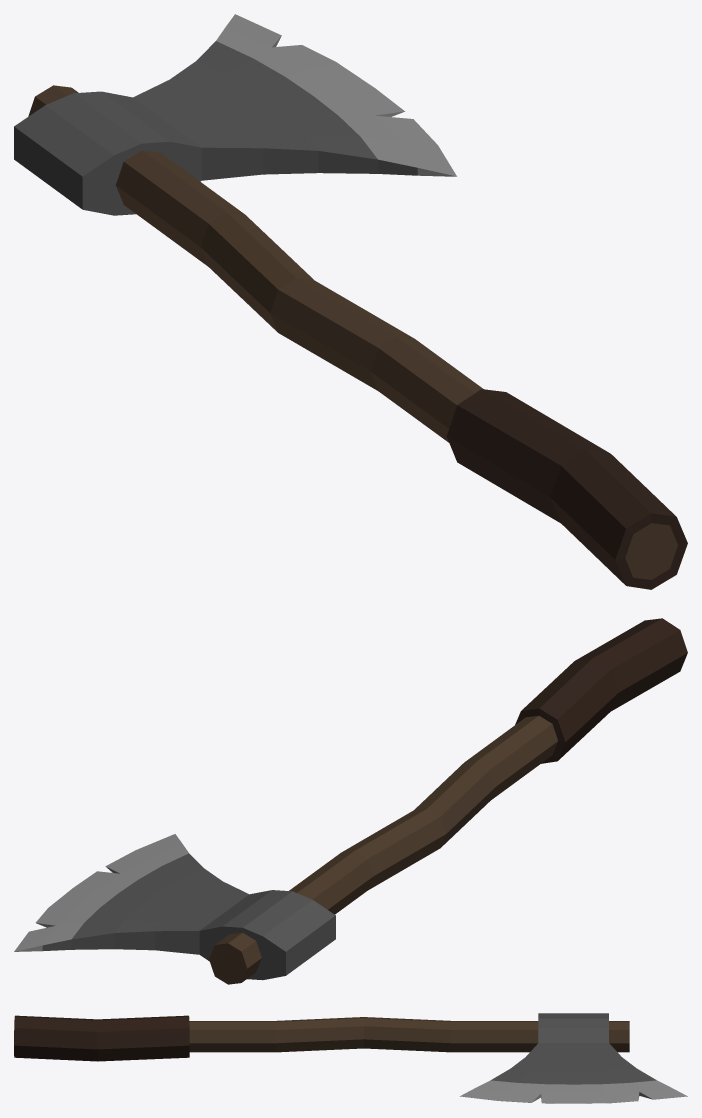
File: axe.fbx
The picture shows the model from 3 angles, top to bottom: view 1: azimuth 30°, elevation 25°; view 2: azimuth 150°, elevation 25°; view 3: azimuth 270°, elevation 25°; orthographic projection. The views are drawn at different scales.
Parts seen in each view (by area): view 1: Axe, handle; view 2: Axe, handle; view 3: Axe, handle.
Boxes of the visible parts, x1=… form: Axe: x1=14, y1=14, x2=677, y2=579; handle: x1=446, y1=389, x2=687, y2=589; Axe: x1=14, y1=715, x2=557, y2=984; handle: x1=515, y1=618, x2=687, y2=763; Axe: x1=189, y1=1013, x2=687, y2=1103; handle: x1=14, y1=1015, x2=189, y2=1061.
Size of the model in its own units: 550 by 123 by 1908.
